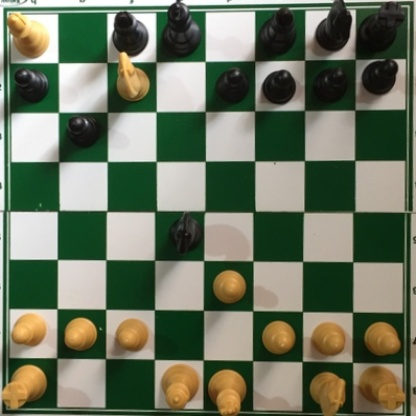black-bishop: (254, 5, 297, 53), (111, 9, 150, 59)
black-king: (159, 1, 202, 57)
black-knight: (315, 1, 353, 53), (168, 211, 202, 256)
black-pawn: (361, 57, 399, 98), (260, 66, 296, 107), (214, 65, 249, 107), (312, 65, 349, 104), (13, 67, 50, 105), (65, 113, 100, 150)
black-rook: (356, 1, 404, 54)
white-bishop: (5, 12, 51, 58)
white-king: (205, 368, 248, 416)
white-knight: (114, 46, 150, 102), (308, 369, 347, 416)
white-pawn: (360, 313, 400, 356), (8, 310, 48, 345), (60, 316, 100, 351), (114, 316, 151, 353), (310, 320, 346, 358), (256, 318, 295, 353), (211, 269, 247, 306)
white-queen: (158, 359, 198, 414)
white-rook: (1, 361, 49, 412), (356, 363, 404, 410)
